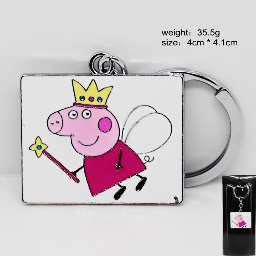Peppa: (29, 79, 153, 202)
